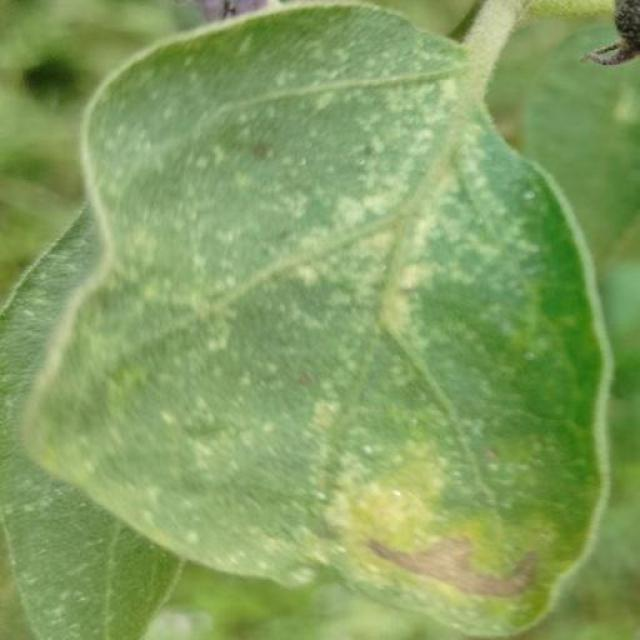leaf_spot: (52, 290, 311, 579), (263, 127, 496, 419), (275, 386, 545, 612), (0, 347, 156, 640), (463, 146, 567, 544), (152, 554, 582, 640), (392, 58, 482, 355), (536, 240, 594, 586), (107, 27, 240, 139), (93, 135, 215, 253), (243, 22, 382, 104), (317, 210, 405, 304), (166, 232, 256, 322), (177, 123, 256, 213), (266, 15, 425, 52), (48, 201, 114, 278), (16, 252, 90, 312), (104, 87, 168, 154), (90, 119, 126, 234), (0, 288, 46, 356)
